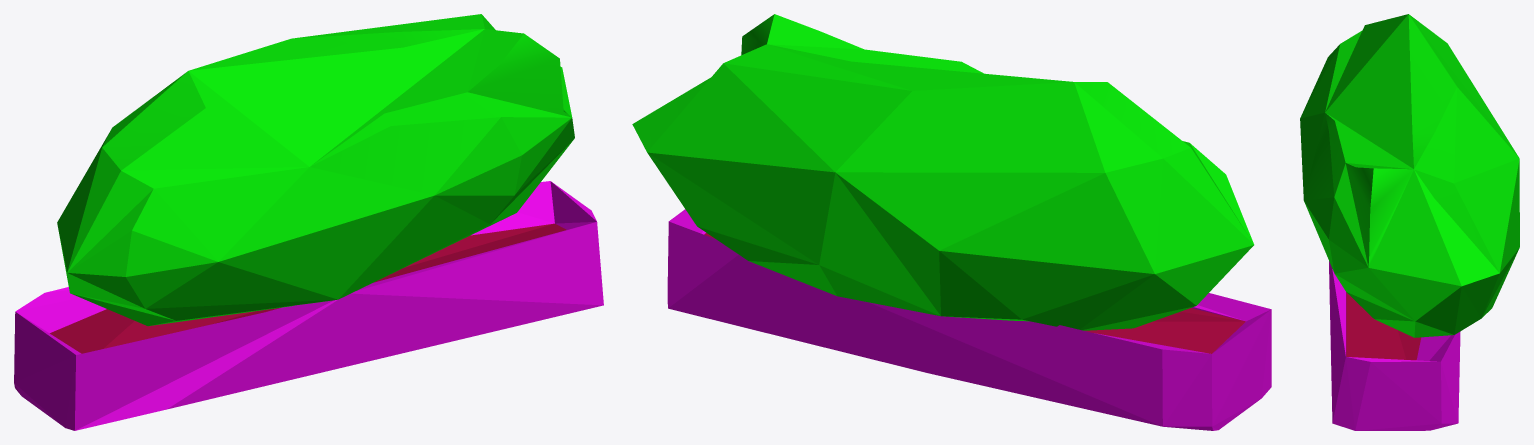
File: planter2.fbx
3 views of the same model, side by side, from view 1: azimuth 30°, elevation 25°; view 2: azimuth 150°, elevation 25°; view 3: azimuth 270°, elevation 25° (orthographic). The views are drawn at different scales.
Parts seen in each view (by area): view 1: pCube9, pCube8; view 2: pCube9, pCube8; view 3: pCube9, pCube8.
Boxes of the visible parts, bbox=[...] form: pCube9: bbox=[57, 14, 574, 326]; pCube8: bbox=[14, 181, 603, 430]; pCube9: bbox=[632, 14, 1254, 330]; pCube8: bbox=[667, 209, 1271, 430]; pCube9: bbox=[1300, 14, 1519, 337]; pCube8: bbox=[1329, 261, 1460, 430].
Bounding box in the file's own units: 208 × 106 × 81.84.
